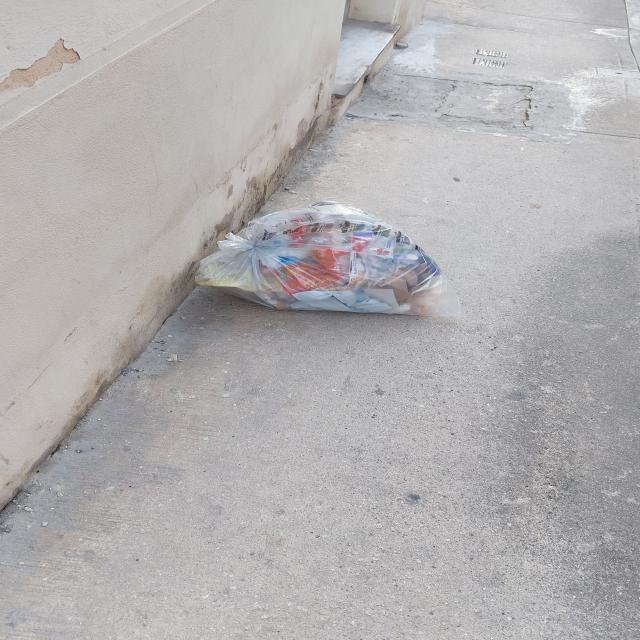Organic Waste -White Bag-: (205, 205, 443, 320)
